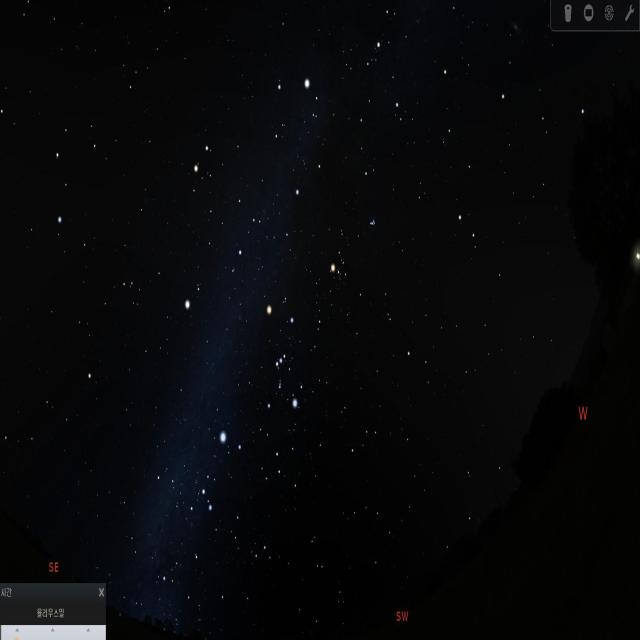canis_major: (198, 422, 245, 520)
canis_minor: (182, 275, 208, 322)
gemini: (190, 137, 258, 258)
orion: (263, 301, 304, 417)
pleiades: (368, 216, 378, 230)
taurus: (321, 199, 381, 303)
